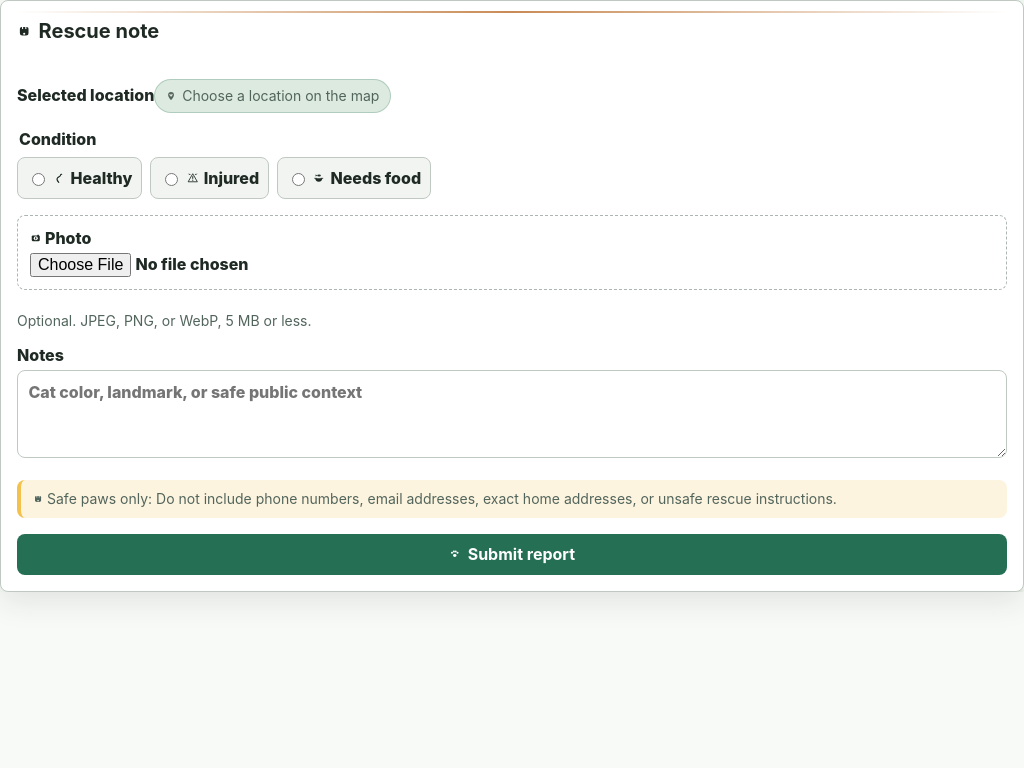
Test: ReportForm › shows required field errors
Expected: the heading "Rescue note" is shown, x1=17 y1=19 x2=159 y2=43
Expected: the text "Safe paws only" is shown, x1=43 y1=490 x2=156 y2=507
Click the button "Submit report".
click(512, 554)  # box x1=17 y1=534 x2=1007 y2=575
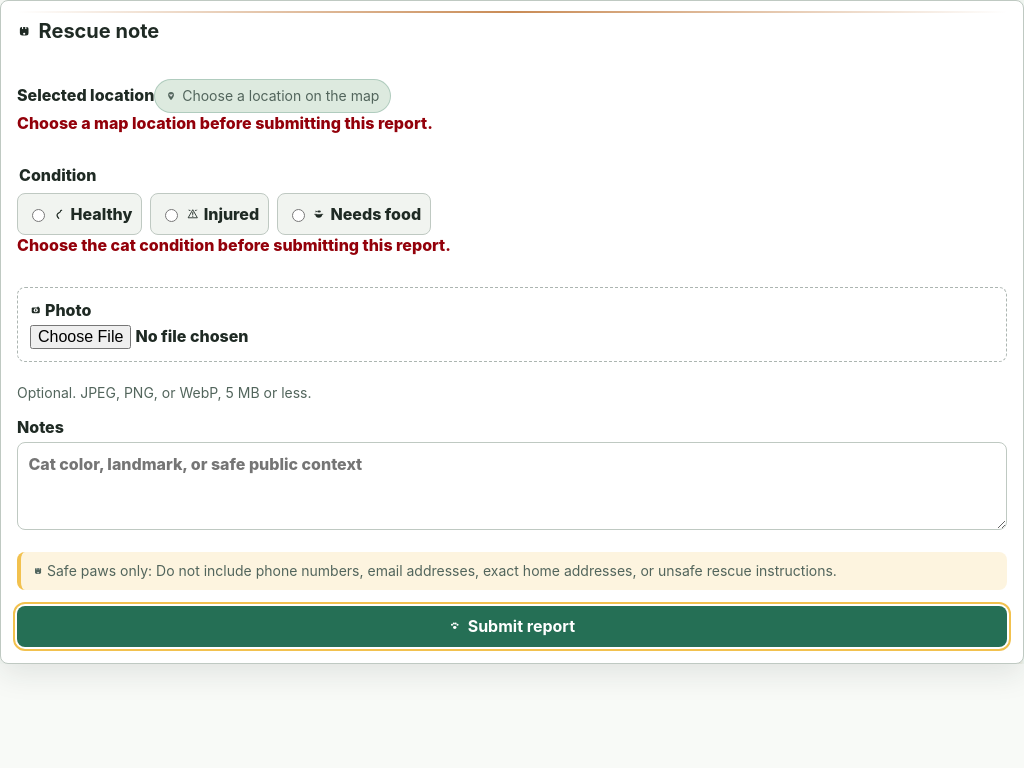
Expected: the text "Choose a map location before submitting this report." is shown, x1=17 y1=113 x2=433 y2=133
Expected: the text "Choose the cat condition before submitting this report." is shown, x1=17 y1=235 x2=451 y2=255
